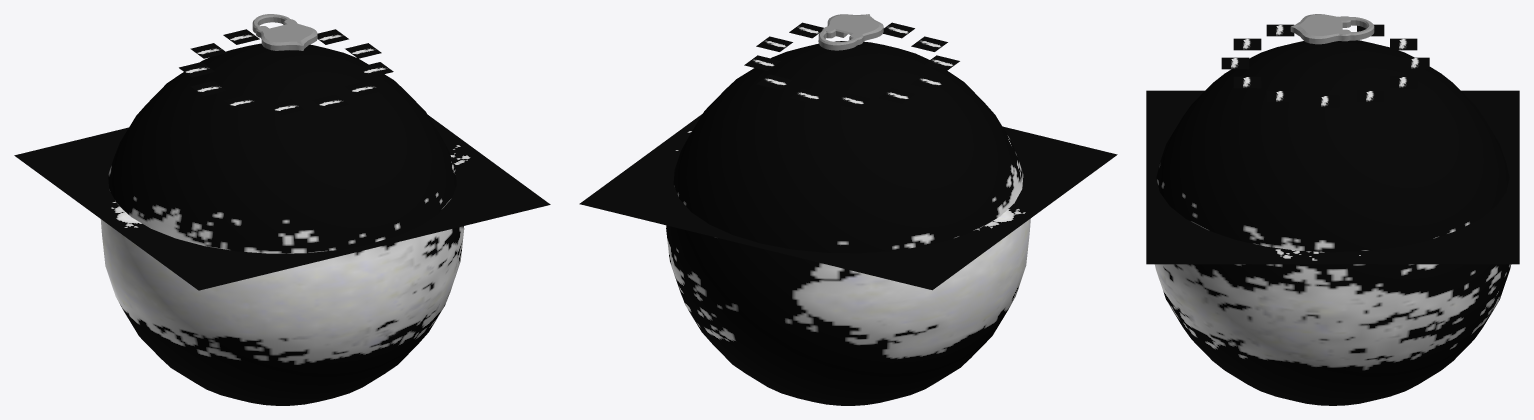
Rendered from Effect_ui_guanka.fbx.
The picture shows the model from 3 angles, left to right: view 1: azimuth 30°, elevation 25°; view 2: azimuth 150°, elevation 25°; view 3: azimuth 270°, elevation 25°; orthographic projection.
Visible parts, largest first — view 1: Sphere001, Plane001; view 2: Sphere001, Plane001; view 3: Sphere001, Plane001, Plane005, Plane006, Plane007, Plane008, Plane009, Plane012, Plane001 1, Plane010, Plane011, Plane004.
Boxes of the visible parts, bbox=[...] form: Sphere001: bbox=[100, 43, 464, 405]; Plane001: bbox=[14, 115, 550, 290]; Sphere001: bbox=[666, 41, 1030, 405]; Plane001: bbox=[579, 114, 1117, 290]; Sphere001: bbox=[1154, 40, 1511, 405]; Plane001: bbox=[1146, 90, 1519, 264]; Plane005: bbox=[1233, 38, 1261, 50]; Plane006: bbox=[1221, 57, 1249, 69]; Plane007: bbox=[1233, 76, 1261, 88]; Plane008: bbox=[1266, 90, 1294, 102]; Plane009: bbox=[1311, 95, 1339, 107]; Plane012: bbox=[1402, 57, 1429, 69]; Plane001 1: bbox=[1390, 38, 1417, 50]; Plane010: bbox=[1357, 90, 1384, 102]; Plane011: bbox=[1390, 76, 1417, 88]; Plane004: bbox=[1266, 24, 1294, 36].
Size of the model in its own units: 2.82 by 2.75 by 2.56.
2 materials, 1 textured.
